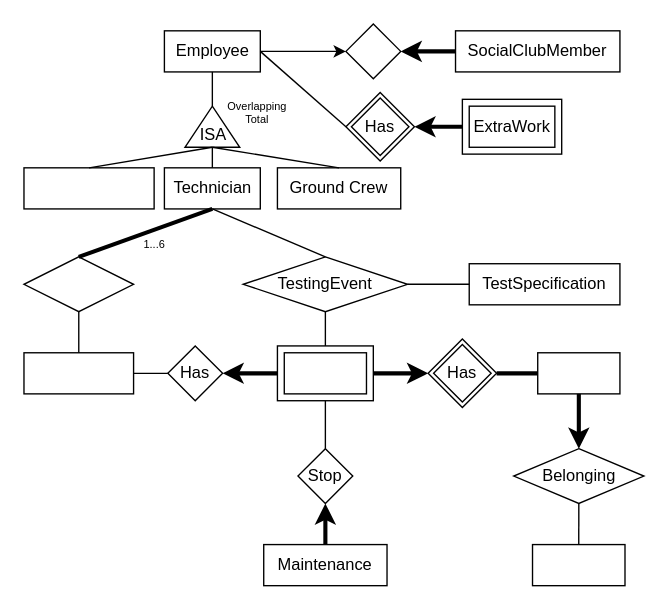
This 669x610 diagram has some shape labels left out. Here are the shapes that lost their labels. From the top down, the box of each, then its label:
(345, 23, 401, 79): Is
(23, 166, 154, 209): Traffic controller
(23, 256, 134, 312): ExpertIn
(23, 351, 134, 394): AircraftType
(276, 345, 373, 401): Aircraft
(536, 351, 620, 394): Airline
(531, 543, 625, 586): Company
